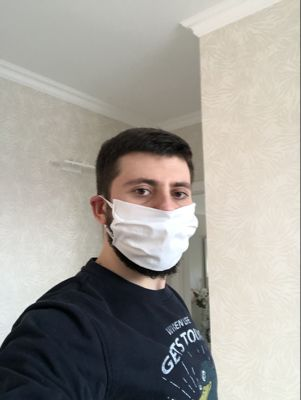with-mask: (97, 137, 198, 280)
